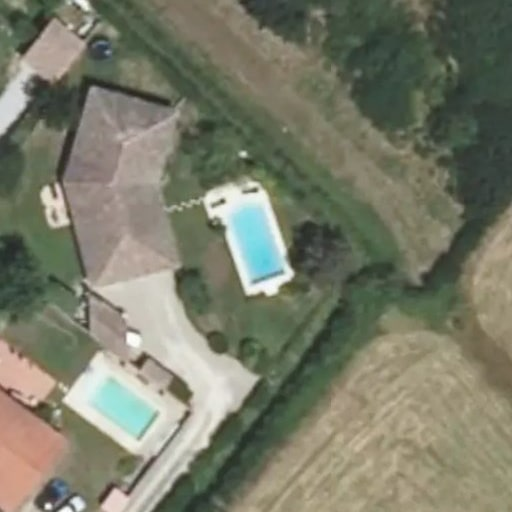pool: (77, 360, 171, 448), (219, 191, 290, 294)
